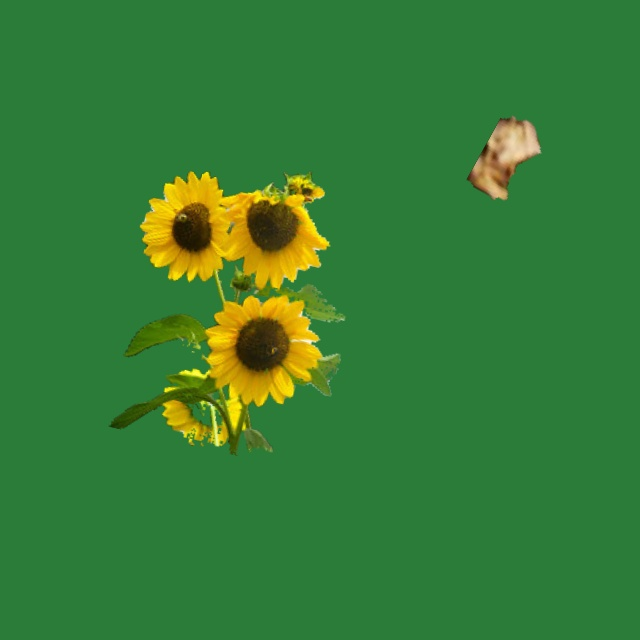dahlia: (467, 116, 540, 199)
sunflower: (109, 171, 344, 454)
